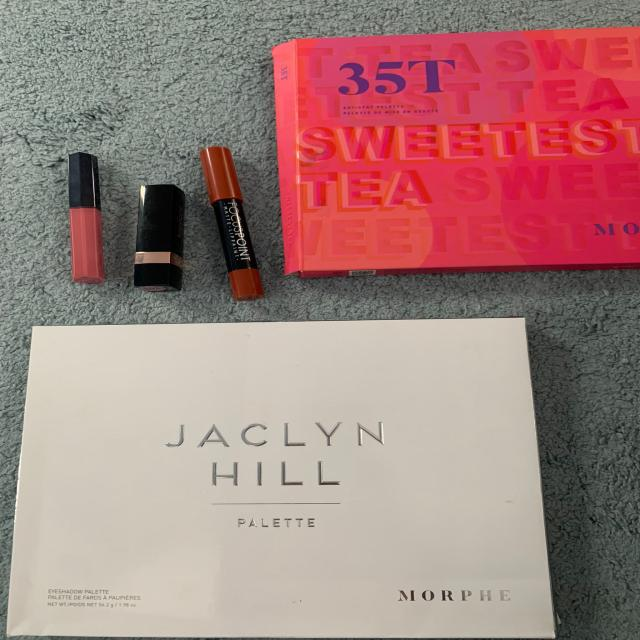lip gloss: (53, 146, 117, 294)
lip liner: (192, 133, 276, 303)
lip stick: (117, 170, 195, 298)
makeup: (13, 307, 578, 640), (267, 21, 640, 284)
